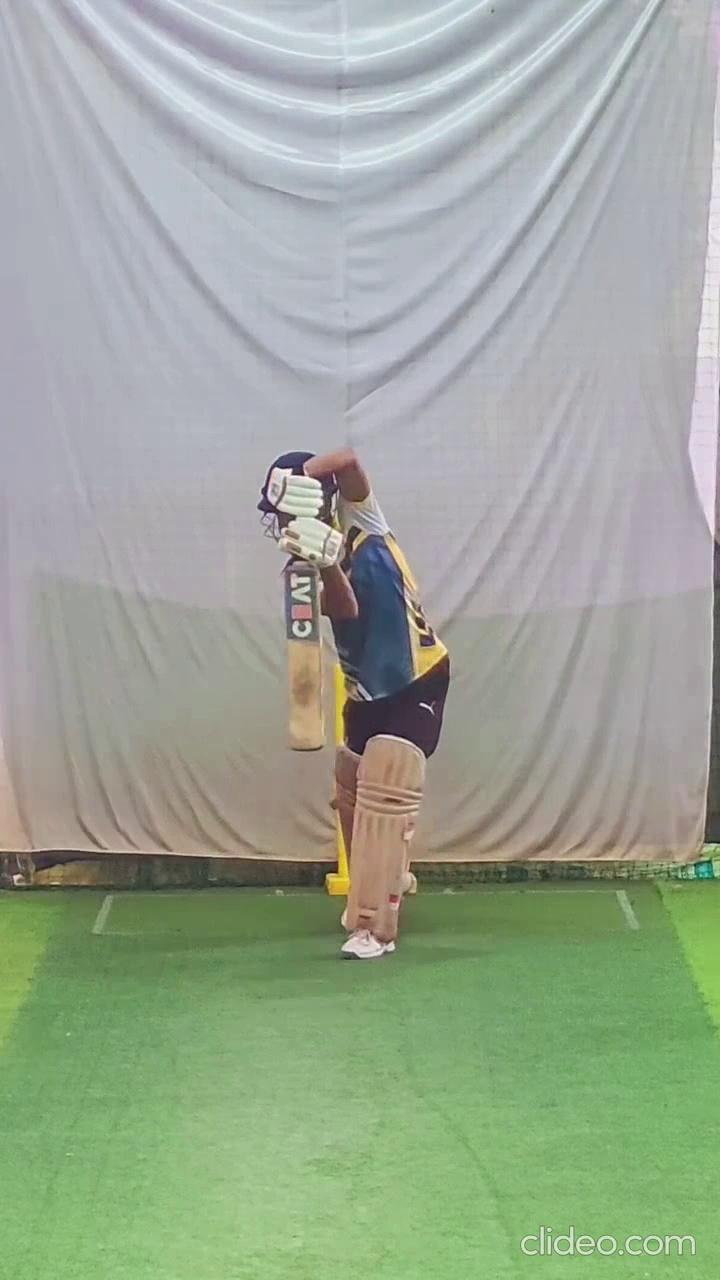bat: (281, 561, 328, 757)
